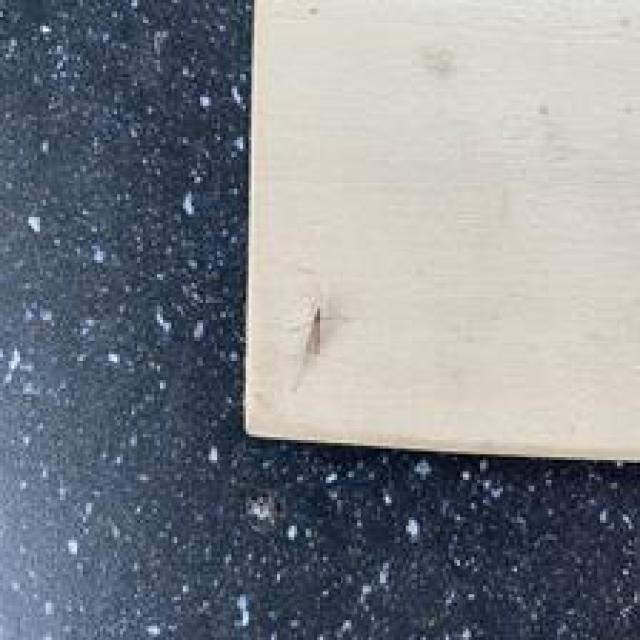Culex: (242, 0, 638, 466)
